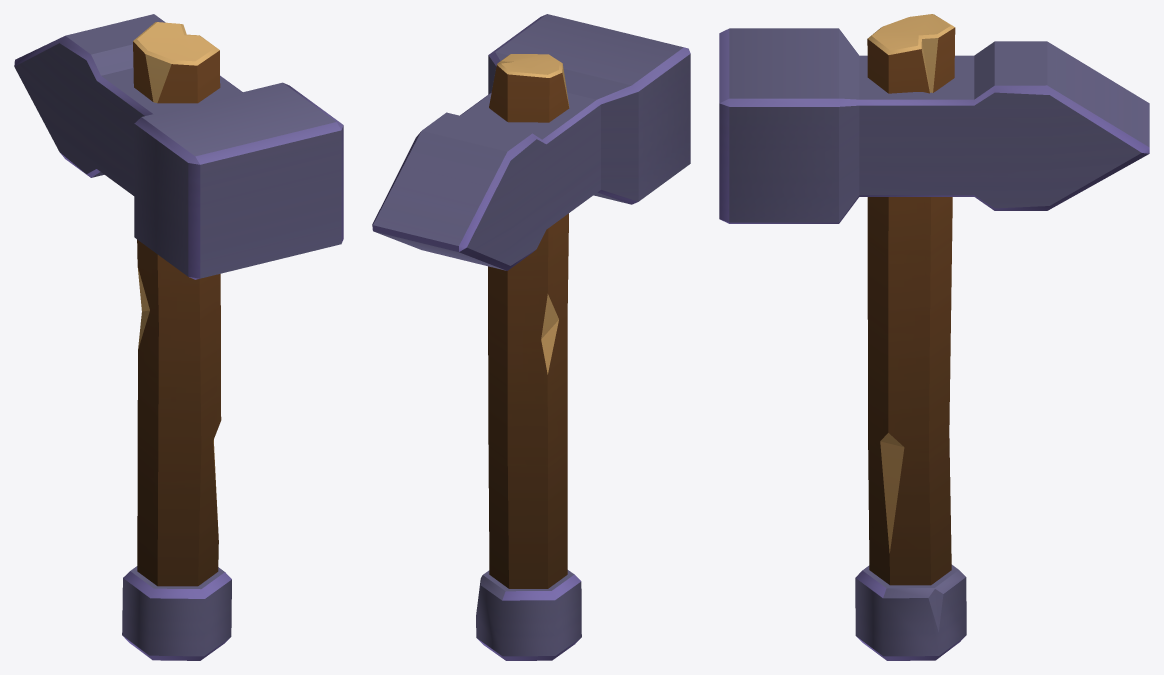
File: Hammer_1_B.glb
3 renders of one model, left to right at view 1: azimuth 30°, elevation 25°; view 2: azimuth 150°, elevation 25°; view 3: azimuth 270°, elevation 25°, orthographic. The views are drawn at different scales.
Parts seen in each view (by area): view 1: Hammer_1_B; view 2: Hammer_1_B; view 3: Hammer_1_B.
Part boxes in pixels (x1,y1,x2,y2): Hammer_1_B: (14,14,343,660); Hammer_1_B: (372,14,690,660); Hammer_1_B: (719,14,1149,660).
Size of the model in its own units: 0.1313 by 0.4901 by 0.3092.
Materials: 2 (2 with a texture image).
